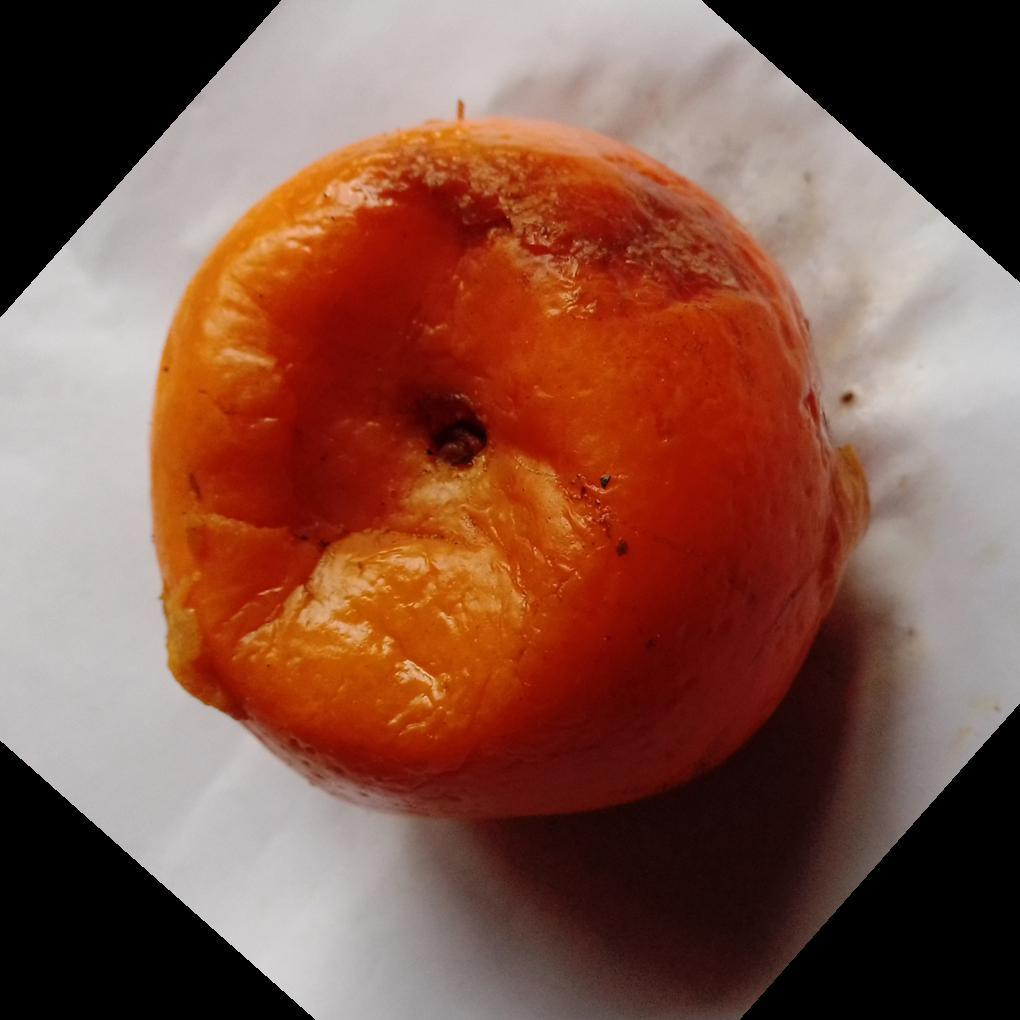FreshOrange: (147, 112, 871, 826)
